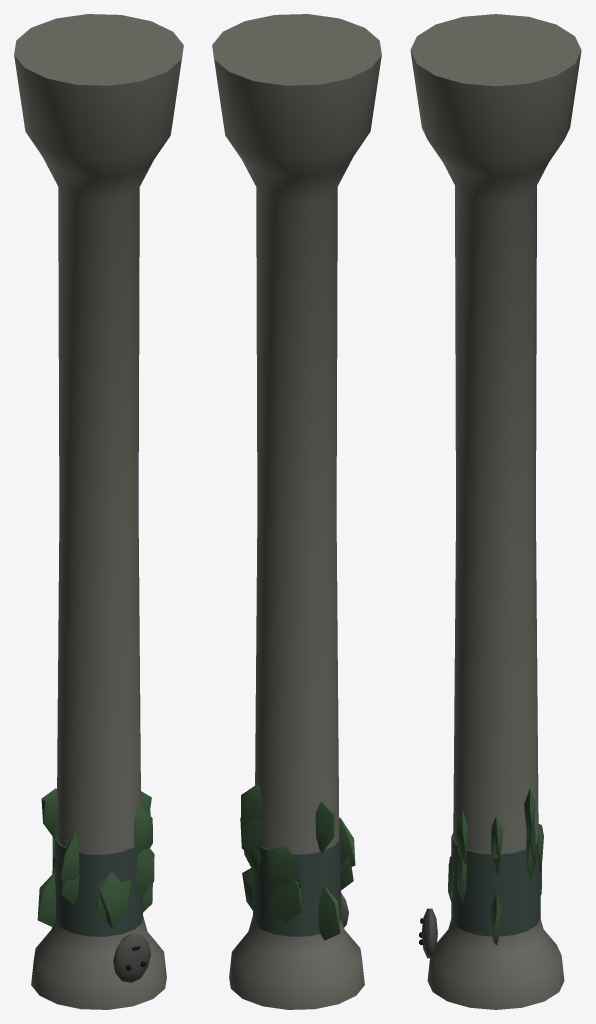
Rendered from cistern_column.glb.
3 renders of one model, left to right at view 1: azimuth 30°, elevation 25°; view 2: azimuth 150°, elevation 25°; view 3: azimuth 270°, elevation 25°, orthographic.
Visible parts, largest first — view 1: cistern_column; view 2: cistern_column; view 3: cistern_column.
Part boxes in pixels (box(x1,y1,x2,y2)): cistern_column: box(14, 14, 183, 1009); cistern_column: box(212, 14, 381, 1009); cistern_column: box(410, 14, 581, 1009).
Size of the model in its own units: 3 by 18 by 3.
